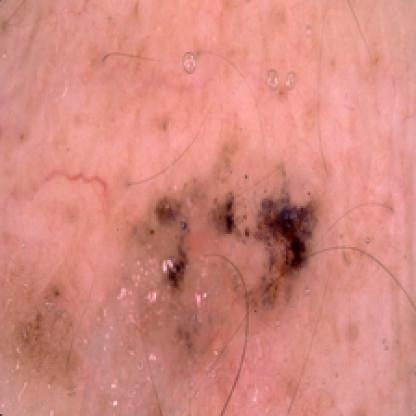malignant: (115, 154, 355, 323)
